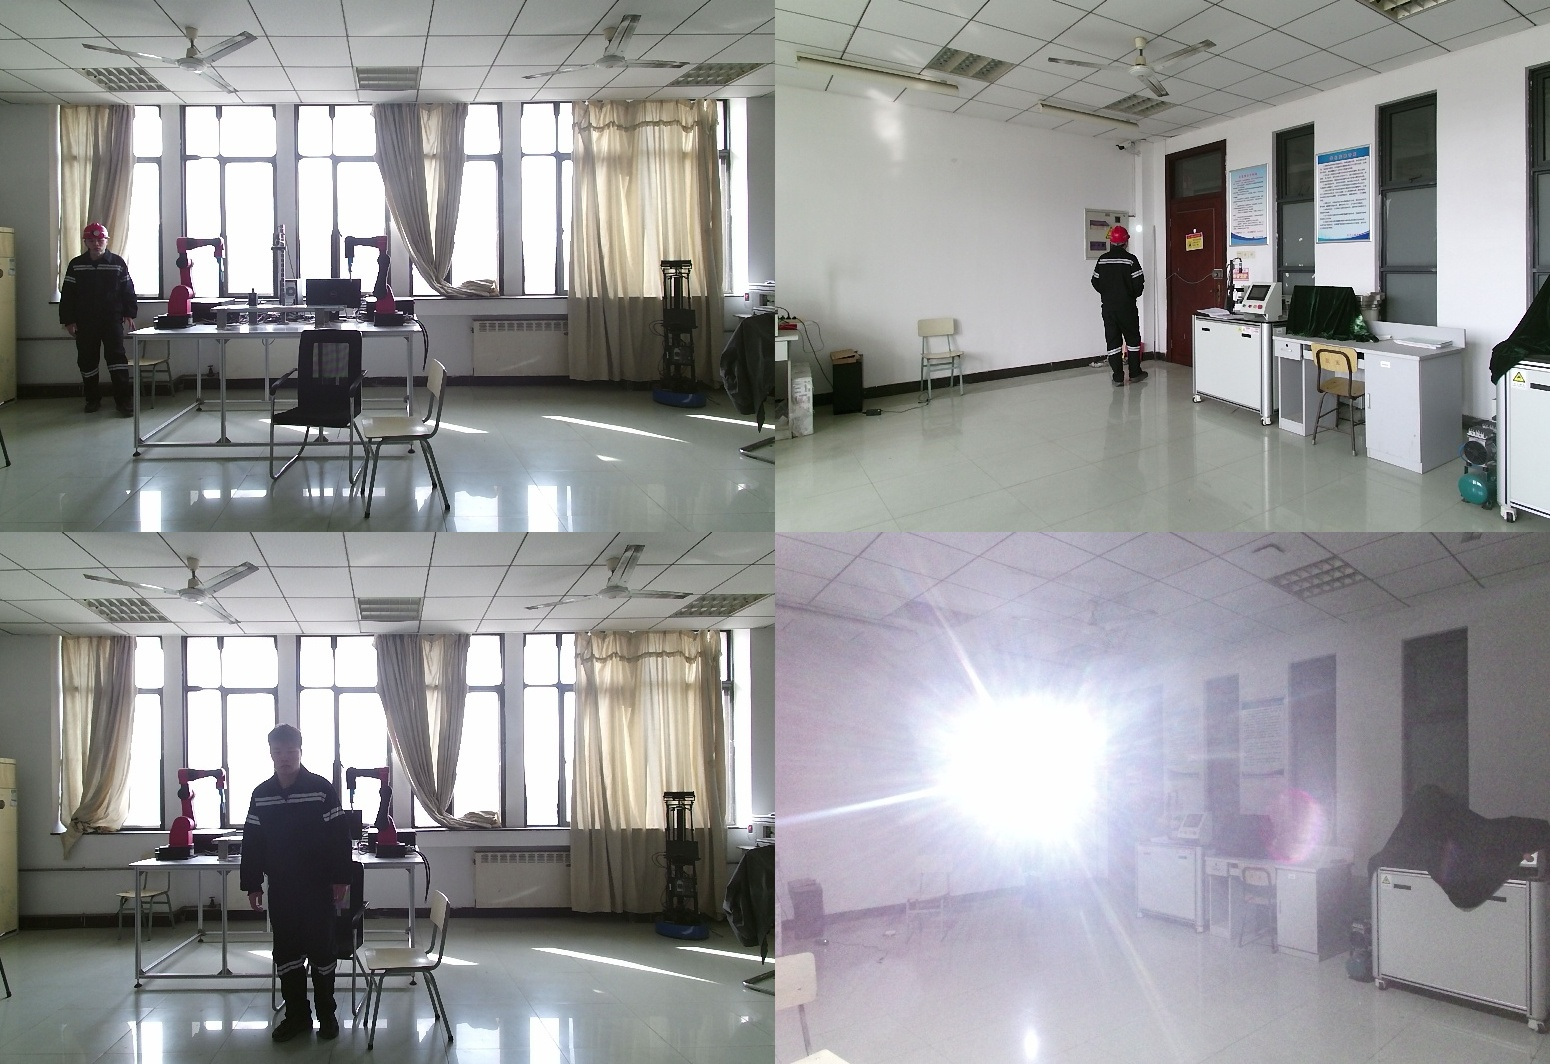person: (242, 723, 361, 1039), (57, 224, 137, 416), (1089, 227, 1149, 393), (1006, 764, 1059, 907)
